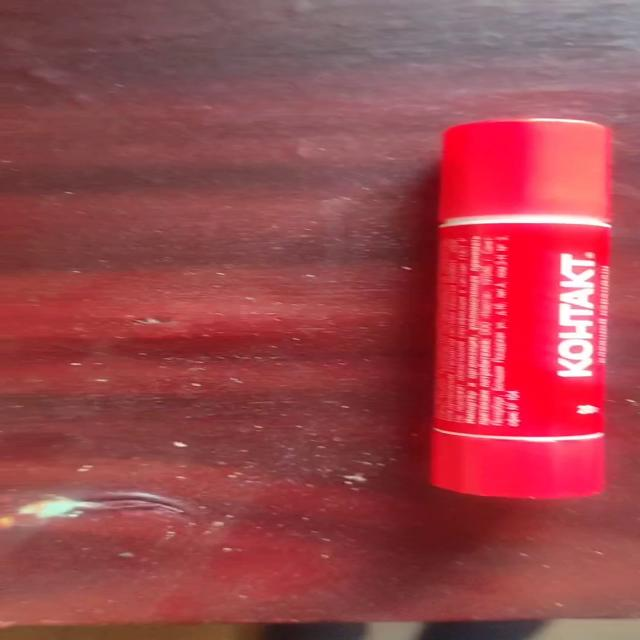glue: (427, 117, 614, 500)
